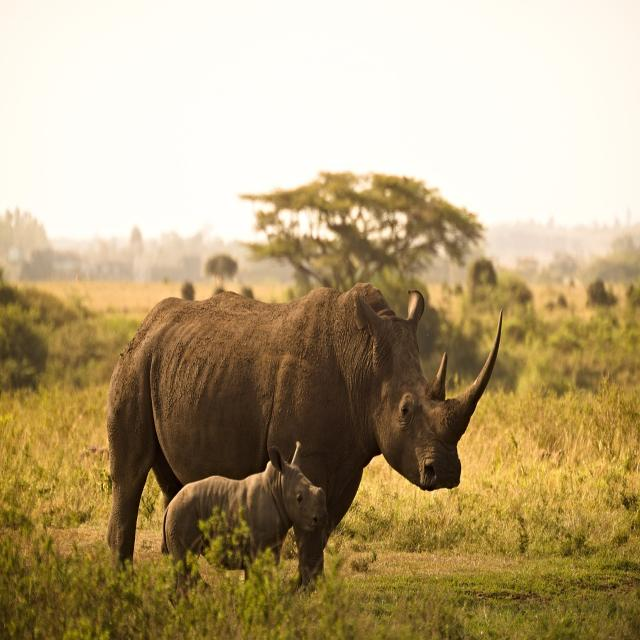Herbivorous: (108, 283, 504, 556), (163, 461, 323, 576)
